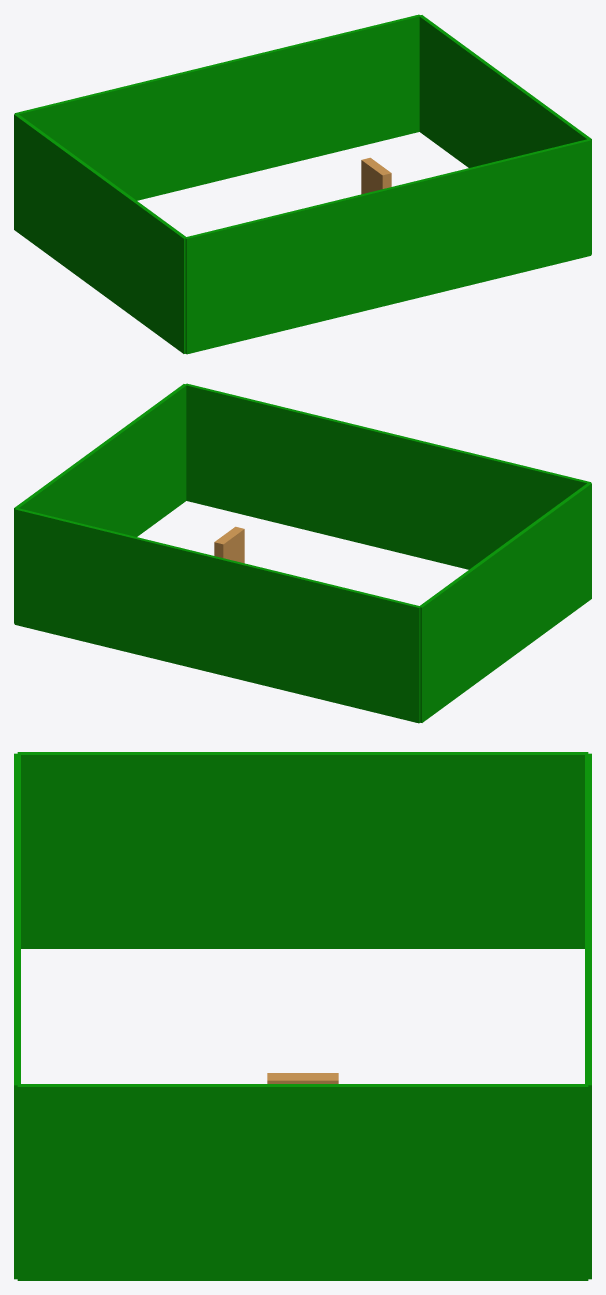
File: box_in_the_room.dae
3 views of the same model, one above another, from view 1: azimuth 30°, elevation 25°; view 2: azimuth 150°, elevation 25°; view 3: azimuth 270°, elevation 25° (orthographic). The views are drawn at different scales.
Parts seen in each view (by area): view 1: Cube_002, Cube_004, Cube_003, Cube_001, Cube; view 2: Cube_004, Cube_002, Cube_003, Cube_001, Cube; view 3: Cube_001, Cube_003, Cube_004, Cube_002, Cube.
Boxes of the visible parts, x1=… form: Cube_002: x1=185, y1=139, x2=591, y2=354; Cube_004: x1=14, y1=14, x2=420, y2=200; Cube_003: x1=14, y1=114, x2=187, y2=353; Cube_001: x1=419, y1=15, x2=591, y2=254; Cube: x1=361, y1=157, x2=391, y2=194; Cube_004: x1=14, y1=508, x2=420, y2=723; Cube_002: x1=185, y1=383, x2=591, y2=569; Cube_003: x1=420, y1=483, x2=591, y2=722; Cube_001: x1=14, y1=384, x2=186, y2=623; Cube: x1=214, y1=526, x2=244, y2=563; Cube_001: x1=17, y1=1084, x2=588, y2=1280; Cube_003: x1=17, y1=752, x2=588, y2=948; Cube_004: x1=585, y1=753, x2=591, y2=1279; Cube_002: x1=14, y1=753, x2=20, y2=1279; Cube: x1=267, y1=1073, x2=338, y2=1083.
Bounding box in the file's own units: 11.1 × 8.1 × 3.
